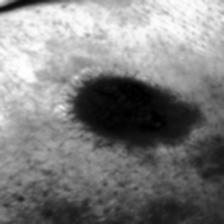Potentially Malignant Skin Tumors: (72, 68, 206, 146)
